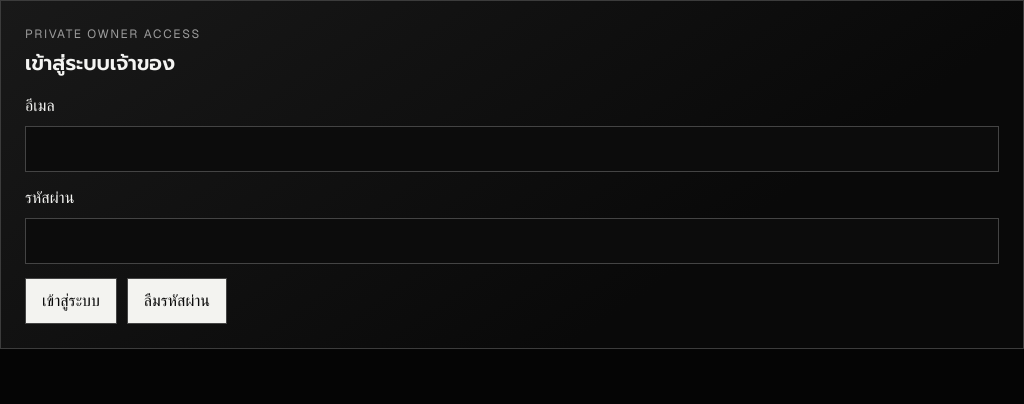
owner auth panel › validates the Thai login form and has no public sign-up action
Click the button "เข้าสู่ระบบ" at (71, 301), box [25, 278, 117, 324]
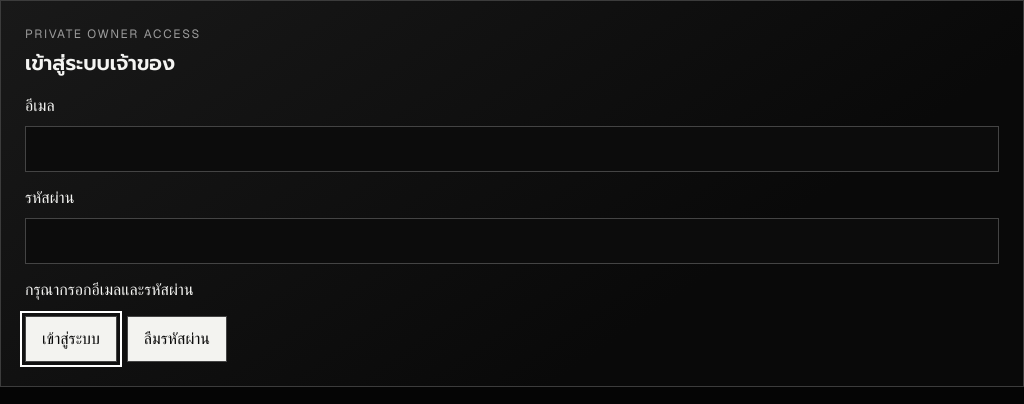
Now the text "กรุณากรอกอีเมลและรหัสผ่าน" is shown, box [25, 279, 194, 300]
